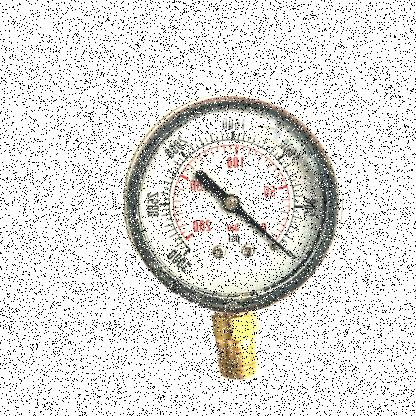needle: (233, 203, 288, 253)
